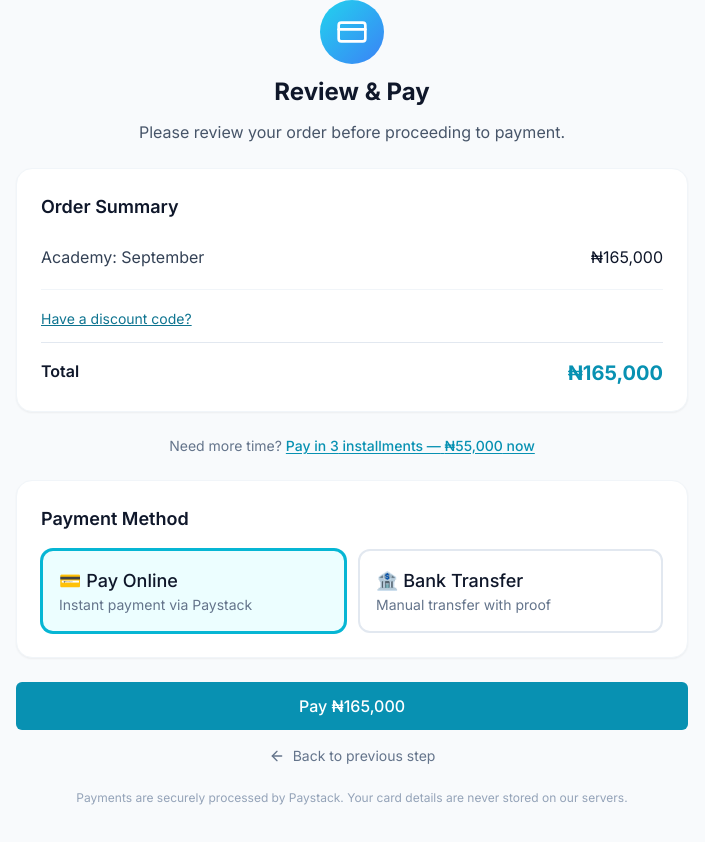
Test case: Academy checkout enrollment preparation › preloads both authoritative prices and switches instantly without another quote
This screenshot has width=705, height=842.
Step 1. Click the button "Pay in 3 installments — ₦55,000 now" → (410, 446), box [286,436,535,456]
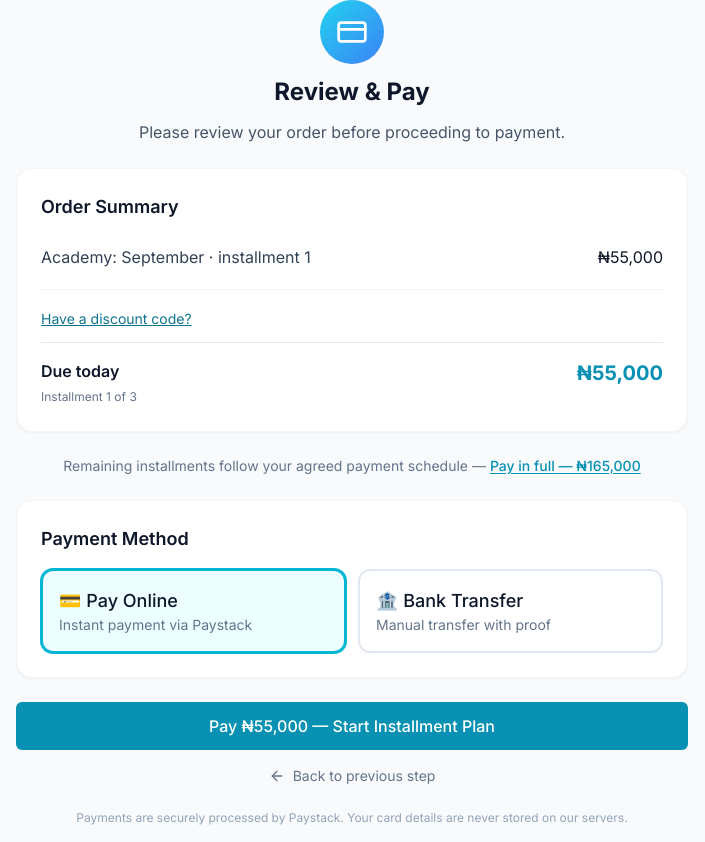
Now the button "Pay in full — ₦165,000" is shown, box [490,456,641,476]
Now the text "₦55,000" in the row of "Academy: September · installment 1" is shown, box [598,247,663,267]
